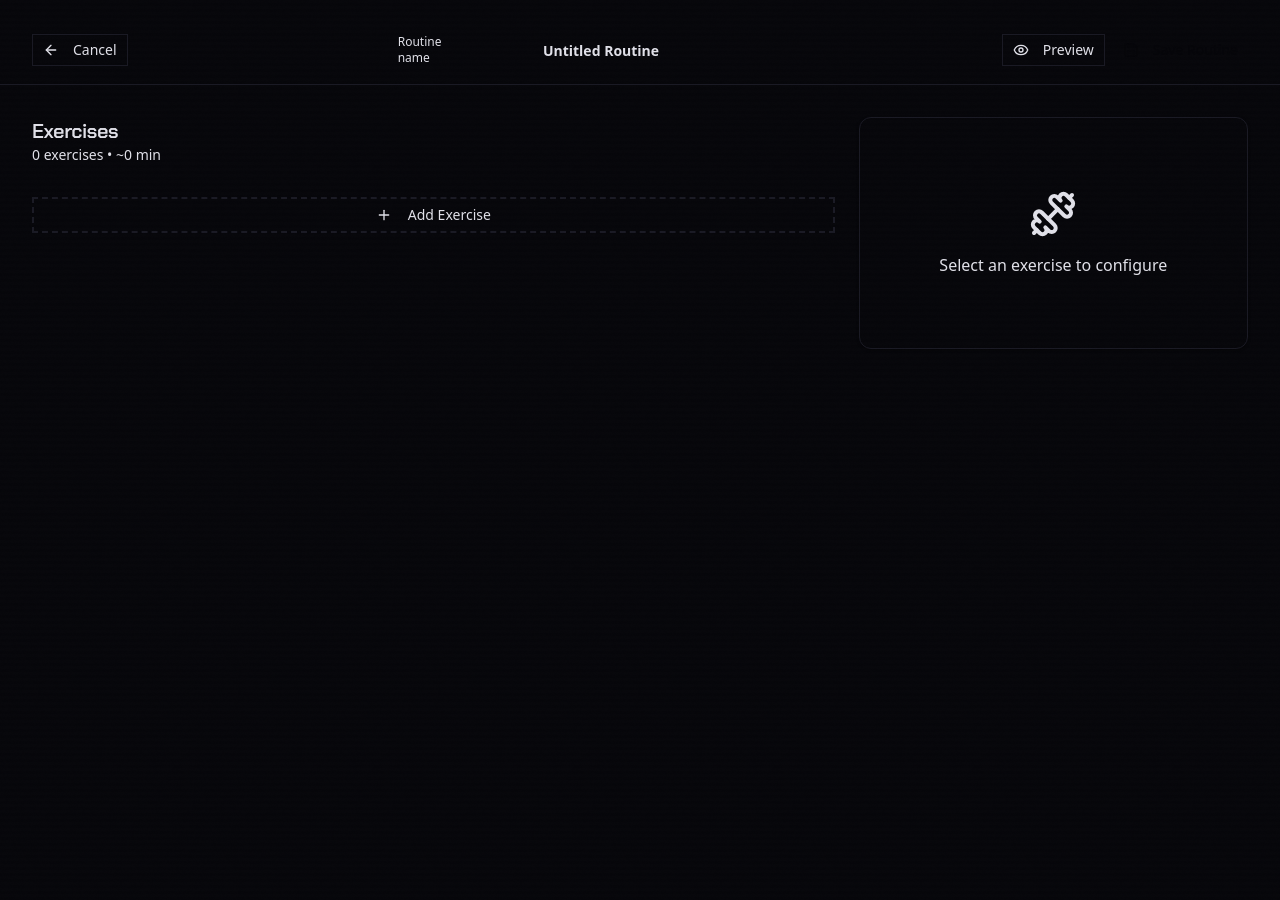
Test: RoutineBuilder › opens exercise picker when Add Exercise button is clicked
The width and height of the screenshot is (1280, 900).
Click the button "Add Exercise" at {"x": 433, "y": 215}, box [32,197,835,233]
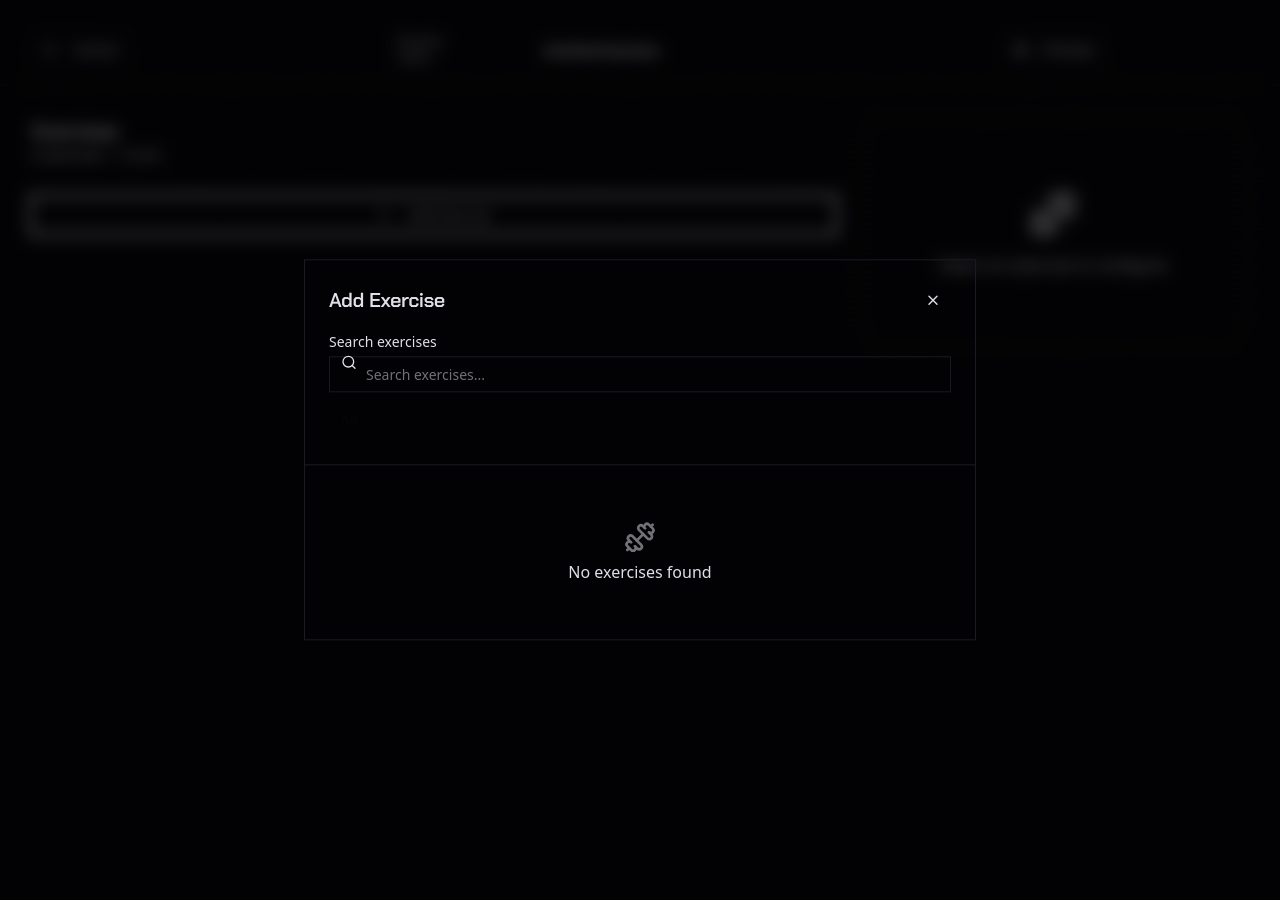
Check: the field with placeholder "Search exercises..." is shown, box [329,356,951,392]
